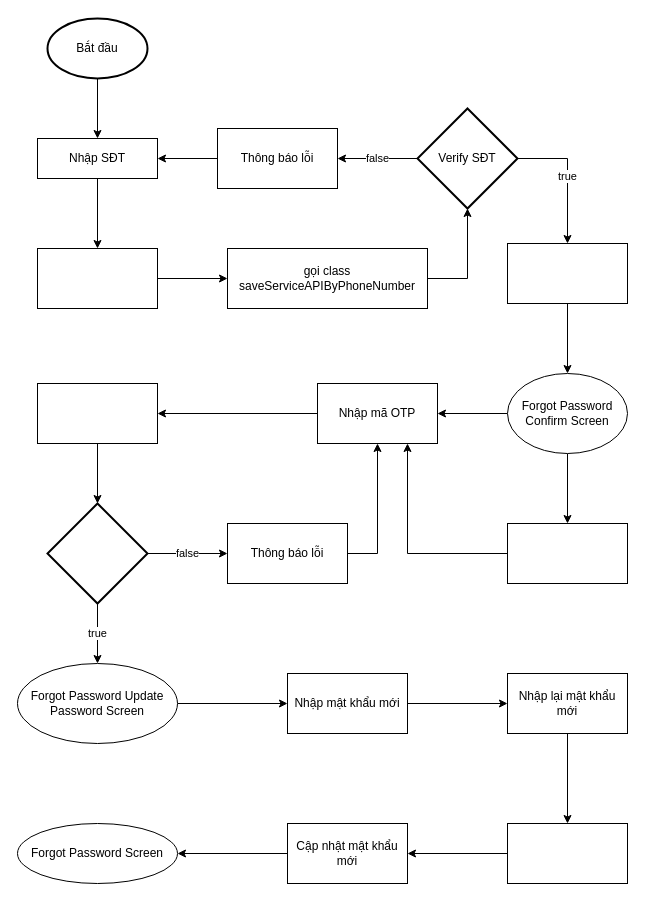
Some shapes in this 645 by 901 pixel diagram are drawn without their labels. Here are the shapes that lost their labels. From the top down, the centre of each, then its label:
(x=97, y=278): Nhấn button "Get OTP Code"
(x=567, y=273): Nhận mã OTP
(x=97, y=413): Nhấn button "Confirm"
(x=97, y=553): Verify OTP
(x=567, y=553): Gửi lại mã OTP
(x=567, y=853): Nhấn button "Xác Confirm"
